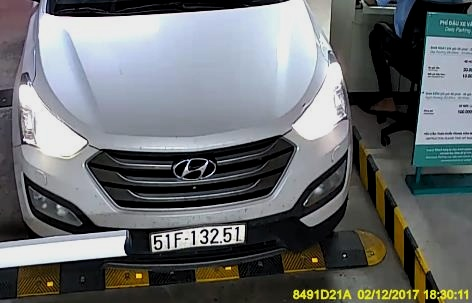plate: (148, 225, 249, 251)
